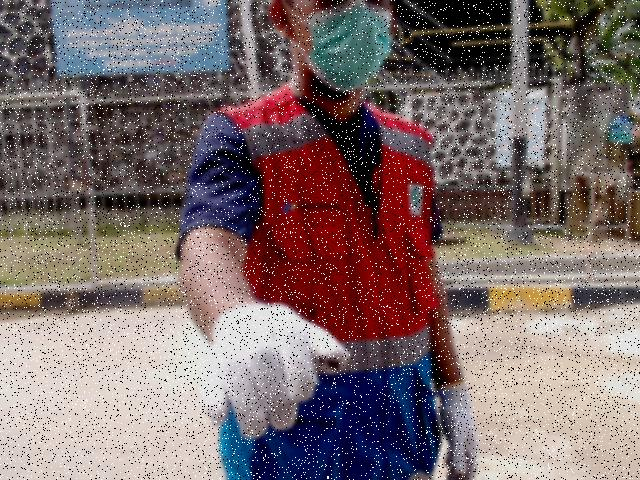gloves: (184, 303, 349, 436), (439, 373, 491, 479)
mask: (300, 3, 397, 97)
